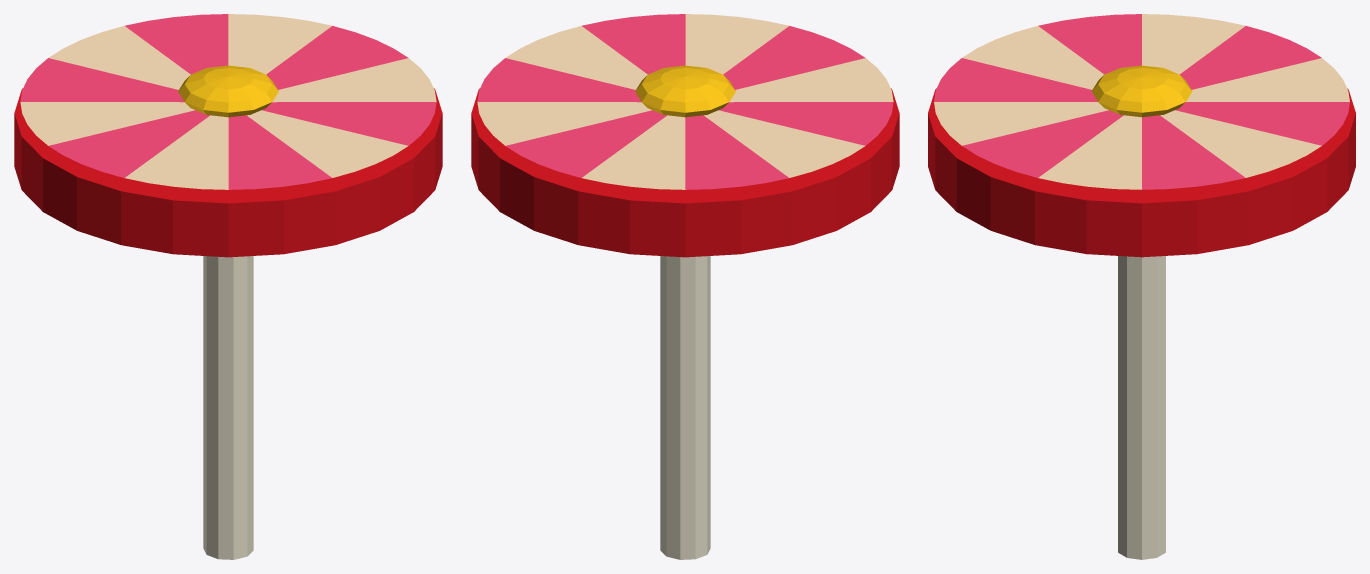
The model's file is Lollipop_Swirl.obj.
3 views of the same model, side by side, from view 1: azimuth 30°, elevation 25°; view 2: azimuth 150°, elevation 25°; view 3: azimuth 270°, elevation 25° (orthographic).
Visible parts, largest first — view 1: CandyRim, Stick, SwirlSector_4, SwirlSector_5, SwirlSector_3, SwirlSector_6, SwirlSector_2, SwirlSector_7, SwirlSector_1, SwirlSector_8, SwirlSector_9, SwirlSector_12 (+3 smaller); view 2: CandyRim, Stick, SwirlSector_8, SwirlSector_9, SwirlSector_7, SwirlSector_10, SwirlSector_6, SwirlSector_11, SwirlSector_5, SwirlSector_12, SwirlSector_1, SwirlSector_4 (+3 smaller); view 3: CandyRim, Stick, SwirlSector_2, SwirlSector_11, SwirlSector_1, SwirlSector_12, SwirlSector_3, SwirlSector_10, SwirlSector_4, SwirlSector_9, SwirlSector_5, SwirlSector_8 (+3 smaller).
Boxes of the visible parts, x1=… form: CandyRim: x1=14, y1=88, x2=442, y2=257; Stick: x1=203, y1=256, x2=253, y2=559; SwirlSector_4: x1=228, y1=115, x2=331, y2=189; SwirlSector_5: x1=125, y1=115, x2=228, y2=189; SwirlSector_3: x1=247, y1=110, x2=407, y2=177; SwirlSector_6: x1=49, y1=110, x2=209, y2=177; SwirlSector_2: x1=262, y1=102, x2=436, y2=145; SwirlSector_7: x1=20, y1=102, x2=194, y2=145; SwirlSector_1: x1=272, y1=58, x2=436, y2=102; SwirlSector_8: x1=20, y1=58, x2=184, y2=102; SwirlSector_9: x1=48, y1=26, x2=190, y2=89; SwirlSector_12: x1=266, y1=26, x2=408, y2=89; CandyRim: x1=471, y1=88, x2=899, y2=257; Stick: x1=660, y1=256, x2=710, y2=559; SwirlSector_8: x1=685, y1=115, x2=788, y2=189; SwirlSector_9: x1=582, y1=115, x2=685, y2=189; SwirlSector_7: x1=704, y1=110, x2=864, y2=177; SwirlSector_10: x1=506, y1=110, x2=666, y2=177; SwirlSector_6: x1=719, y1=102, x2=893, y2=145; SwirlSector_11: x1=477, y1=102, x2=651, y2=145; SwirlSector_5: x1=729, y1=58, x2=893, y2=102; SwirlSector_12: x1=477, y1=58, x2=641, y2=102; SwirlSector_1: x1=505, y1=26, x2=647, y2=89; SwirlSector_4: x1=723, y1=26, x2=865, y2=89; CandyRim: x1=928, y1=88, x2=1355, y2=257; Stick: x1=1118, y1=256, x2=1165, y2=559; SwirlSector_2: x1=962, y1=110, x2=1123, y2=177; SwirlSector_11: x1=1160, y1=110, x2=1321, y2=177; SwirlSector_1: x1=1038, y1=115, x2=1141, y2=189; SwirlSector_12: x1=1142, y1=115, x2=1245, y2=189; SwirlSector_3: x1=934, y1=102, x2=1108, y2=145; SwirlSector_10: x1=1175, y1=102, x2=1349, y2=145; SwirlSector_4: x1=934, y1=58, x2=1097, y2=101; SwirlSector_9: x1=1186, y1=58, x2=1349, y2=101; SwirlSector_5: x1=962, y1=26, x2=1103, y2=89; SwirlSector_8: x1=1180, y1=26, x2=1321, y2=89.
Bounding box in the file's own units: 1.44 × 1.75 × 1.44.
